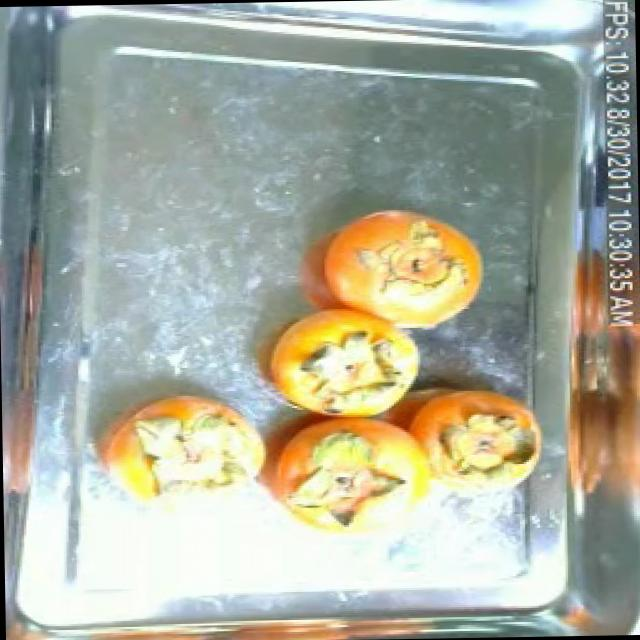Fruit: (308, 195, 496, 340)
